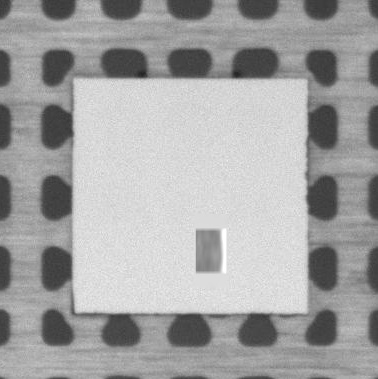DIE_INK: (192, 228, 228, 274)
